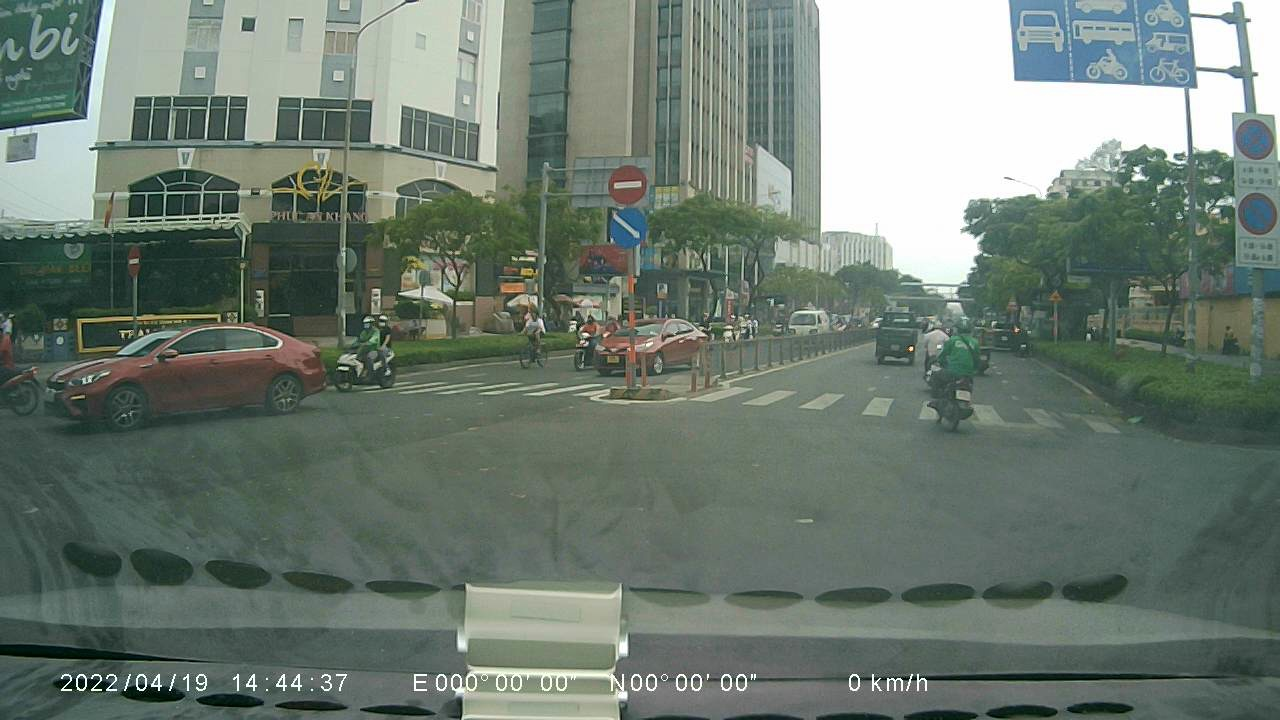Bien khac: (1234, 115, 1276, 161)
Cam di nguoc chieu: (606, 162, 646, 204), (122, 244, 146, 280)
Cam do xe: (1237, 190, 1280, 234)
Huong di phai re phai: (609, 208, 648, 250)
